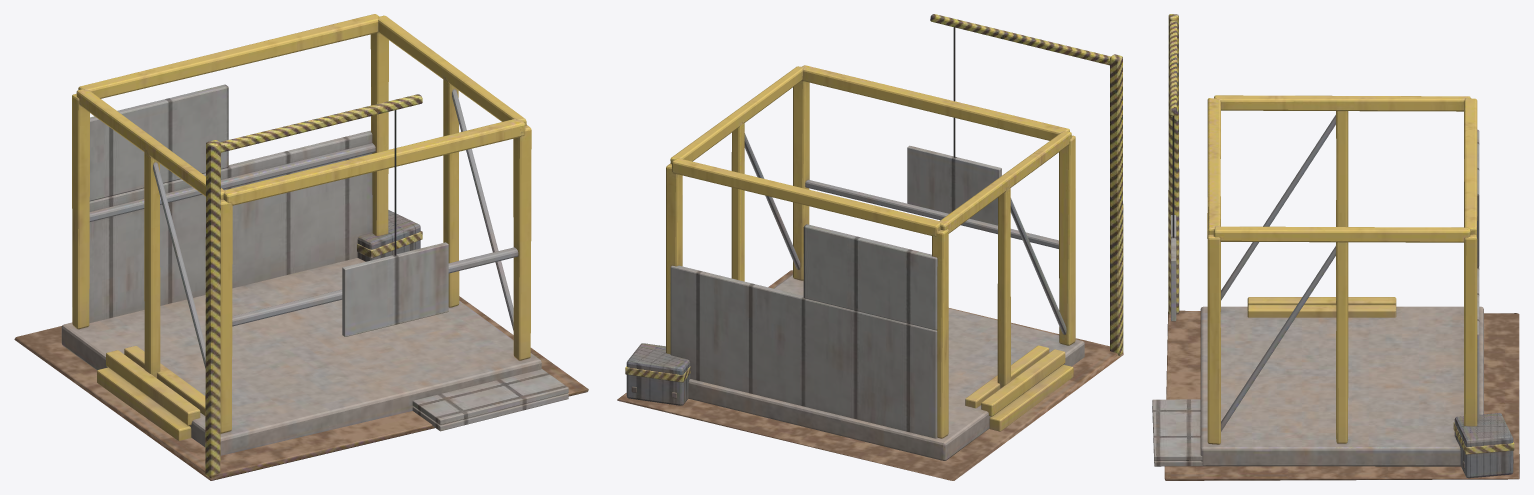
File: site_1.glb
3 views of the same model, side by side, from view 1: azimuth 30°, elevation 25°; view 2: azimuth 150°, elevation 25°; view 3: azimuth 270°, elevation 25° (orthographic). The views are drawn at different scales.
Parts seen in each view (by area): view 1: site_1; view 2: site_1; view 3: site_1.
Part boxes in pixels (box(x1,y1,x2,y2)): site_1: box(14, 14, 588, 480); site_1: box(617, 14, 1123, 480); site_1: box(1152, 14, 1519, 480).
Size of the model in its own units: 2.93 by 2.48 by 2.72.
Materials: 1 (1 with a texture image).
